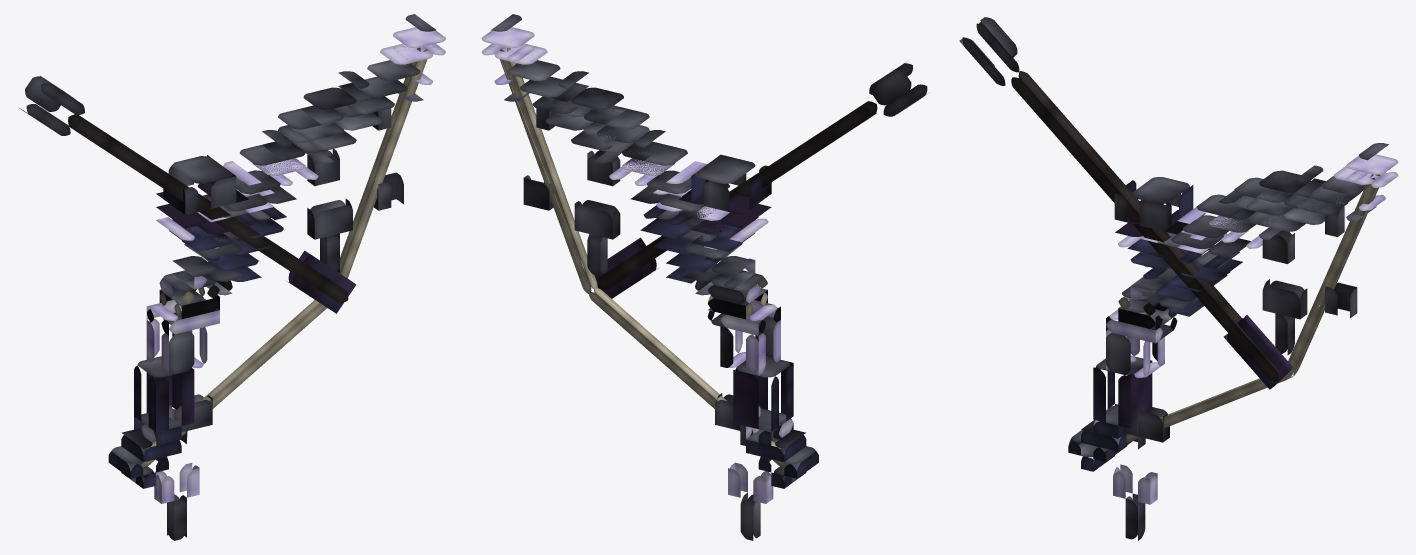
The model's file is crowfletch_bow_pulling_1.obj.
The picture shows the model from 3 angles, left to right: view 1: azimuth 30°, elevation 25°; view 2: azimuth 150°, elevation 25°; view 3: azimuth 330°, elevation 25°; orthographic projection. The views are drawn at different scales.
Parts seen in each view (by area): view 1: lit, fire; view 2: lit, fire; view 3: lit, fire.
Boxes of the visible parts, left/top/right/bottom form: lit: left=19, top=14, right=445, bottom=540; fire: left=287, top=250, right=356, bottom=313; lit: left=481, top=14, right=927, bottom=540; fire: left=594, top=237, right=658, bottom=298; lit: left=959, top=17, right=1398, bottom=540; fire: left=1223, top=315, right=1293, bottom=389.
Size of the model in its own units: 1.05 by 1.18 by 0.1282.
